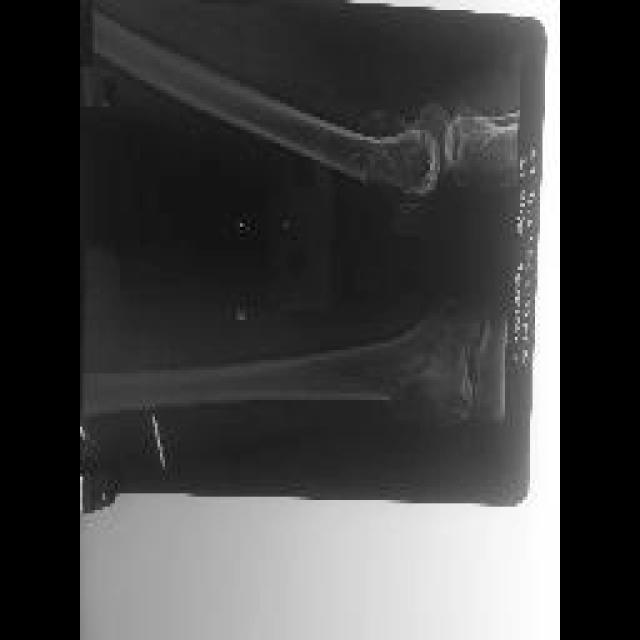bone-cancer: (385, 327, 465, 425), (358, 109, 432, 206)
